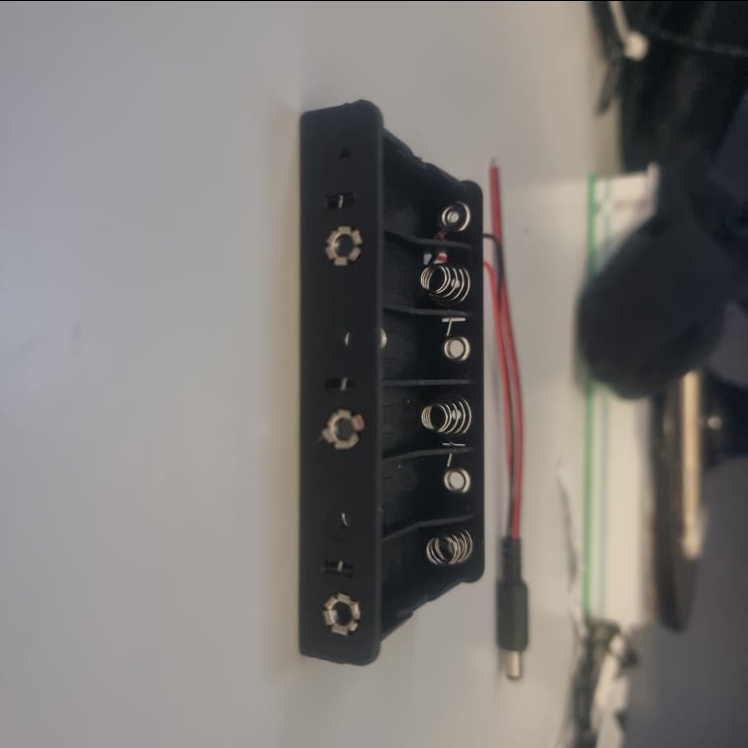BATTERY BOX: (298, 99, 484, 667)
